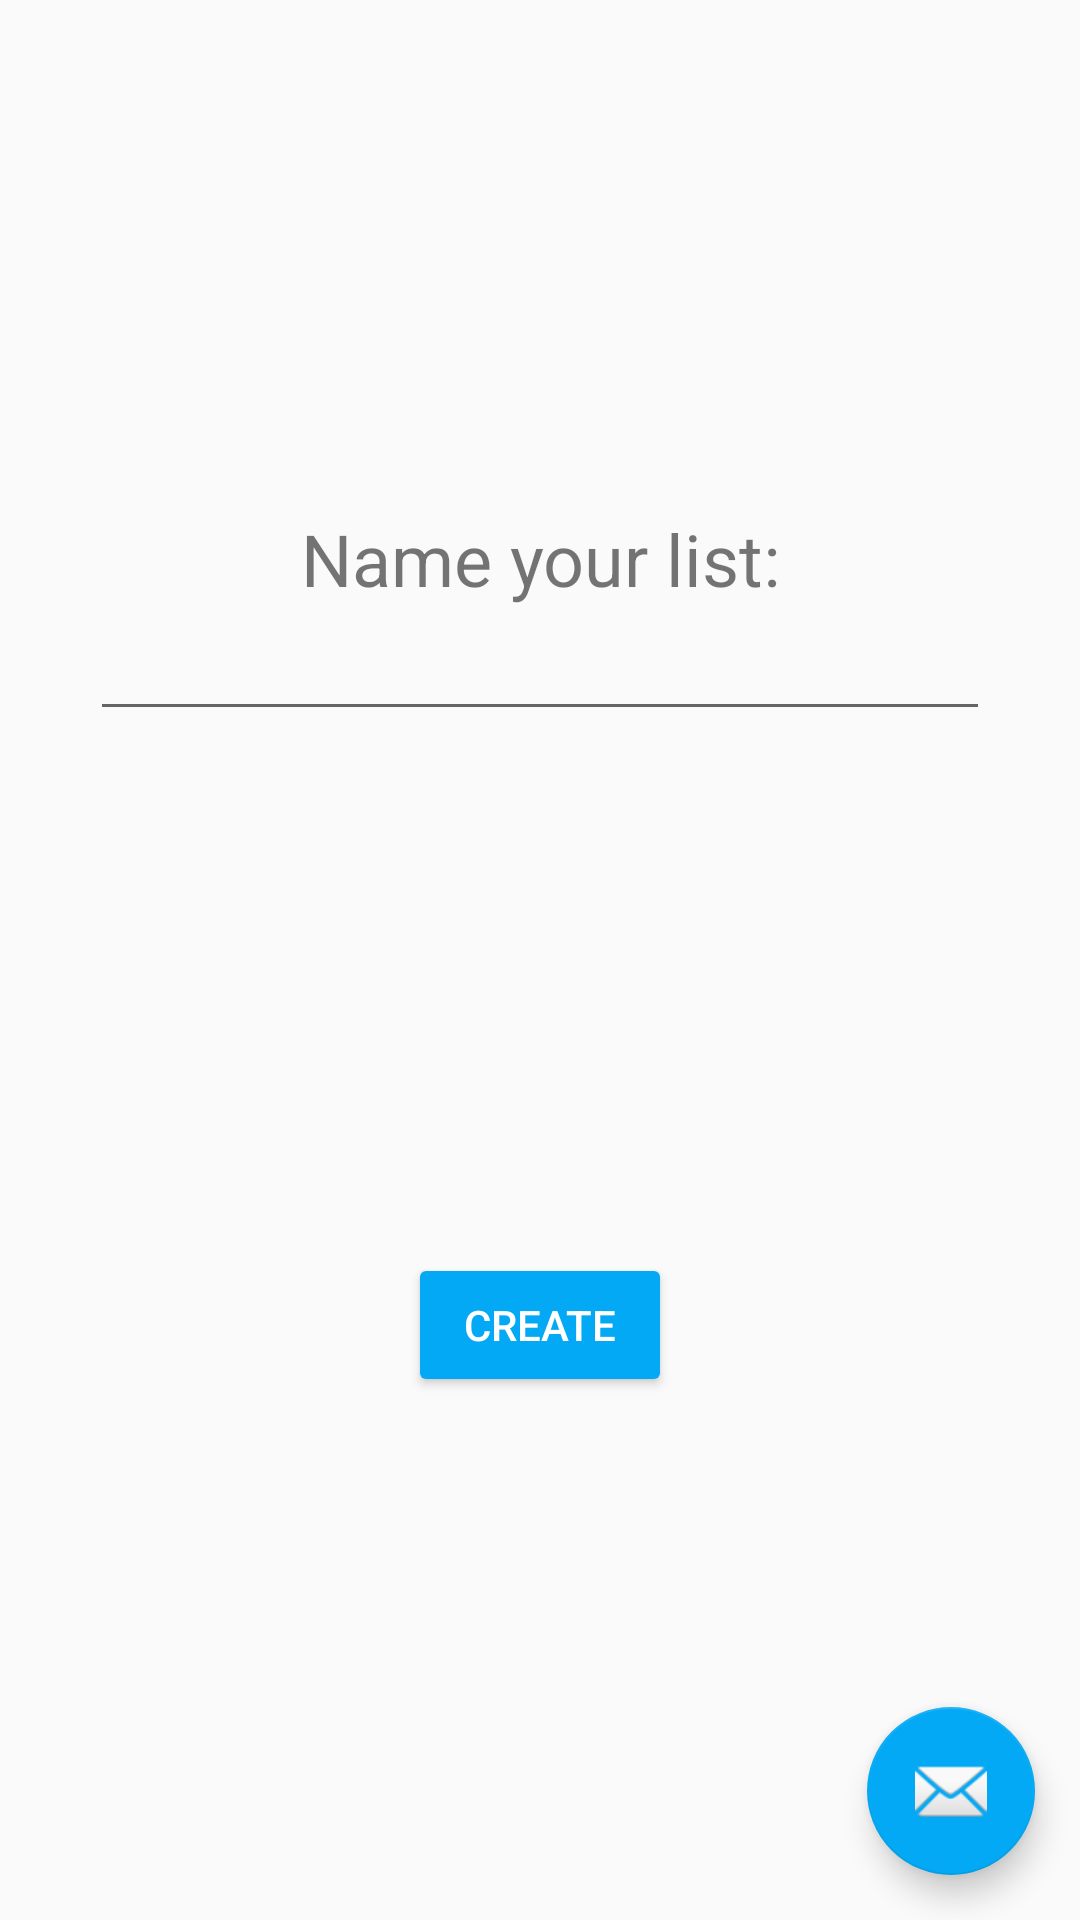

Screen size 1080 × 1920. Icon name, then its box in pixels as Rect(x1, y1, x2, y2):
email: Rect(867, 1707, 1035, 1875)
